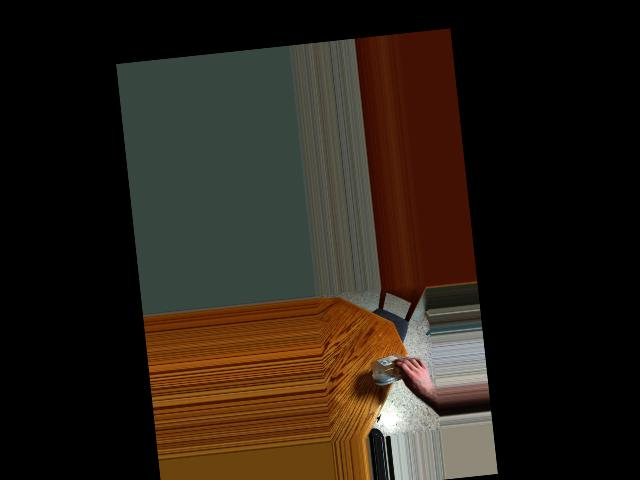cheese: (378, 351, 418, 388)
